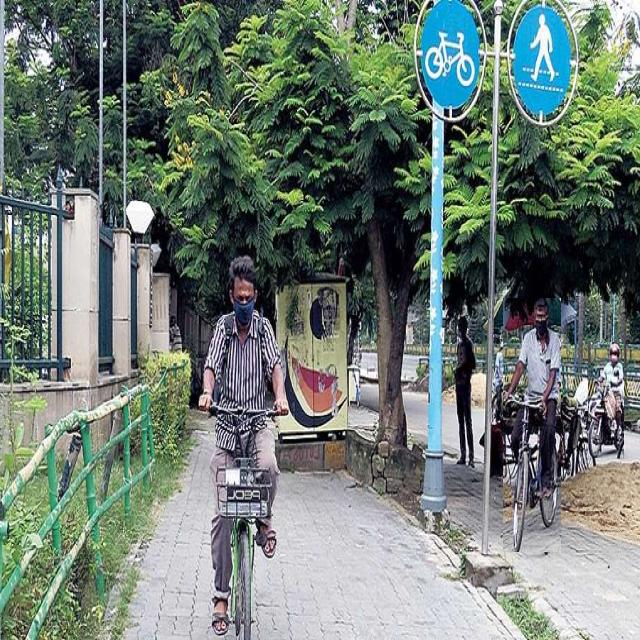bicycle: (199, 256, 289, 638), (503, 298, 560, 552)
motorcycle: (588, 343, 624, 458)
